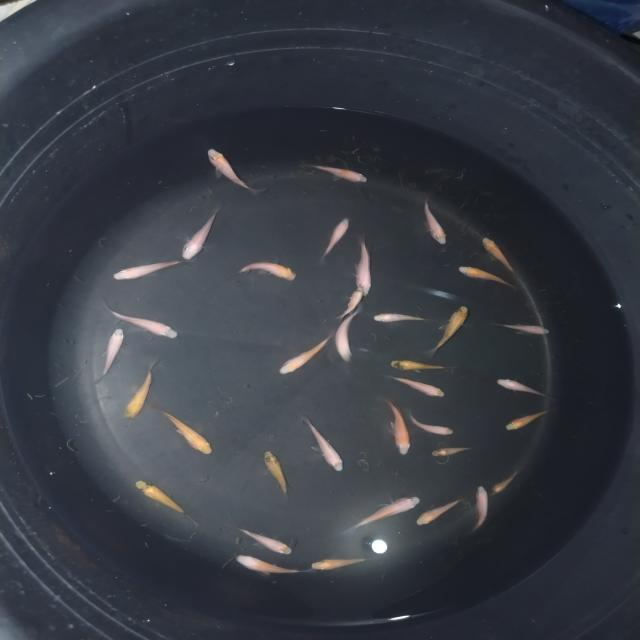nila: (132, 478, 204, 532), (97, 300, 183, 340), (277, 325, 344, 376), (343, 492, 424, 534), (202, 145, 268, 196), (152, 404, 216, 456), (220, 518, 306, 556), (300, 412, 348, 473), (232, 552, 316, 582), (376, 396, 418, 456), (120, 359, 160, 422), (179, 206, 222, 262), (258, 446, 298, 504), (430, 302, 472, 355), (230, 256, 304, 286), (491, 373, 560, 402), (382, 370, 448, 400), (454, 263, 520, 293), (412, 492, 466, 528), (478, 232, 522, 276), (461, 482, 498, 534), (108, 258, 188, 282), (304, 552, 386, 574), (292, 162, 374, 184), (318, 214, 354, 264), (335, 305, 364, 367), (95, 324, 126, 382), (401, 408, 459, 438), (352, 231, 375, 299), (386, 356, 468, 374), (502, 406, 554, 434), (422, 198, 448, 248), (336, 282, 368, 322), (488, 464, 524, 494), (496, 320, 554, 337), (370, 310, 434, 324), (429, 442, 472, 460)
